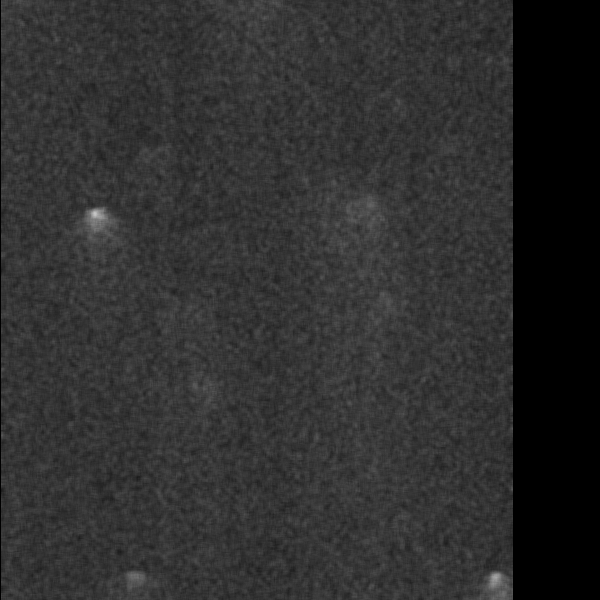spark: (76, 201, 114, 271), (349, 187, 380, 250), (120, 564, 150, 598), (480, 566, 509, 597)
